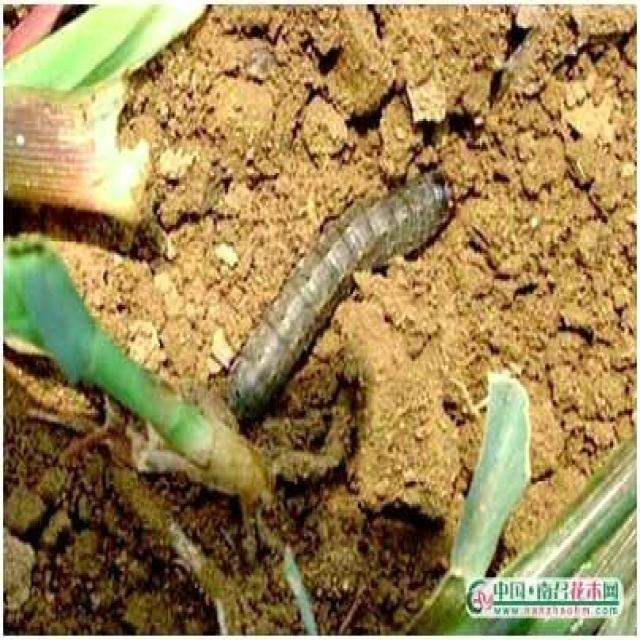black cutworm: (229, 171, 454, 419)
